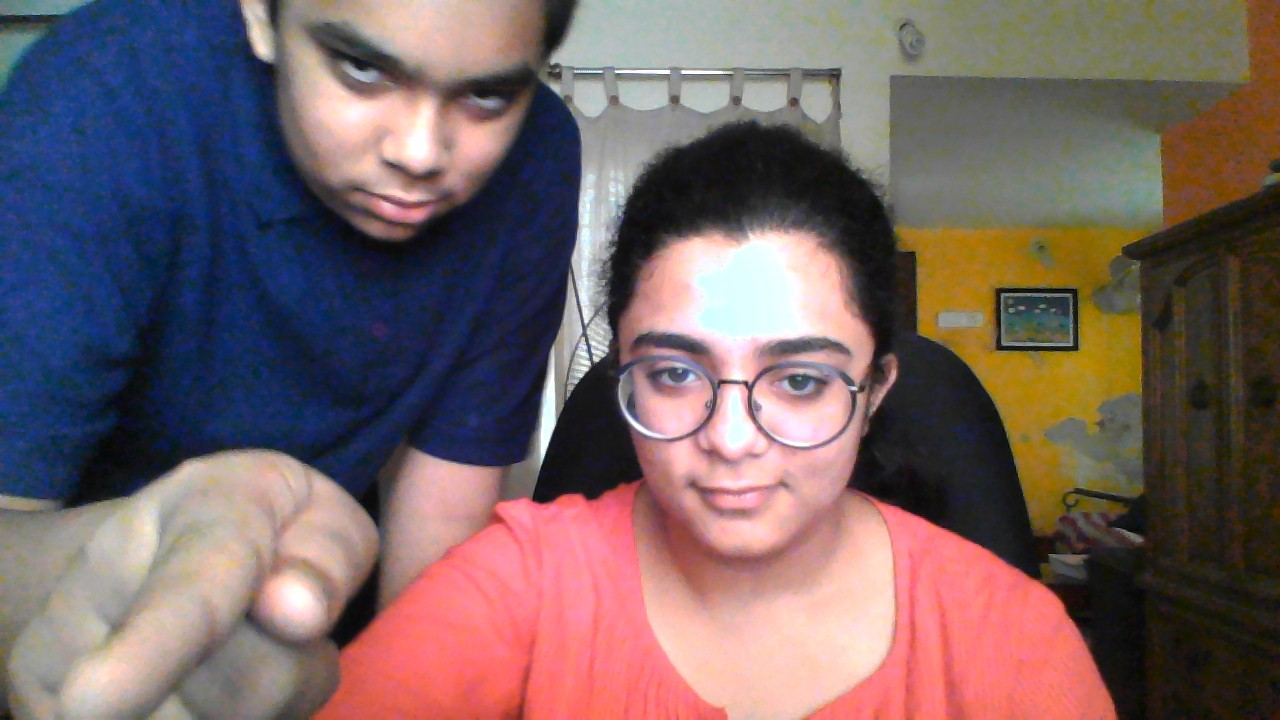person: (605, 144, 939, 654), (225, 4, 581, 309)
